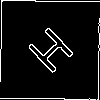H: (25, 25, 83, 83)
